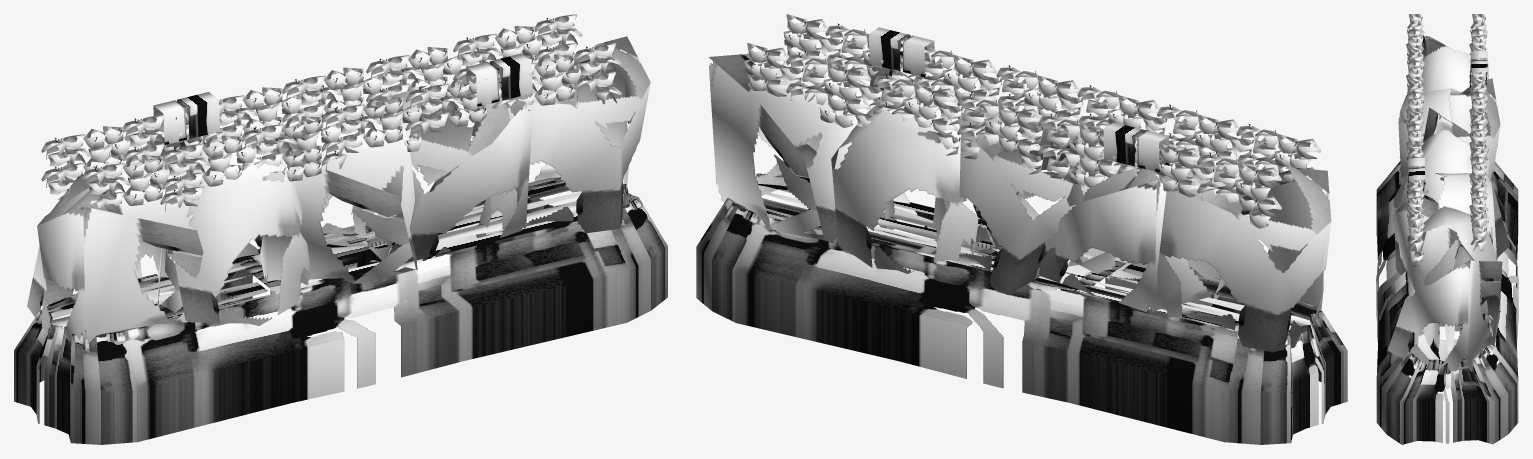
The model's file is wall_long.dae.
The picture shows the model from 3 angles, left to right: view 1: azimuth 30°, elevation 25°; view 2: azimuth 150°, elevation 25°; view 3: azimuth 270°, elevation 25°; orthographic projection. The views are drawn at different scales.
Visible parts, largest first — view 1: wall_long; view 2: wall_long; view 3: wall_long.
Part boxes in pixels (box(x1,y1,x2,y2)): wall_long: box(14, 14, 667, 444); wall_long: box(696, 14, 1347, 444); wall_long: box(1376, 14, 1518, 444).
Bounding box in the file's own units: 39.05 × 9.88 × 16.32.
